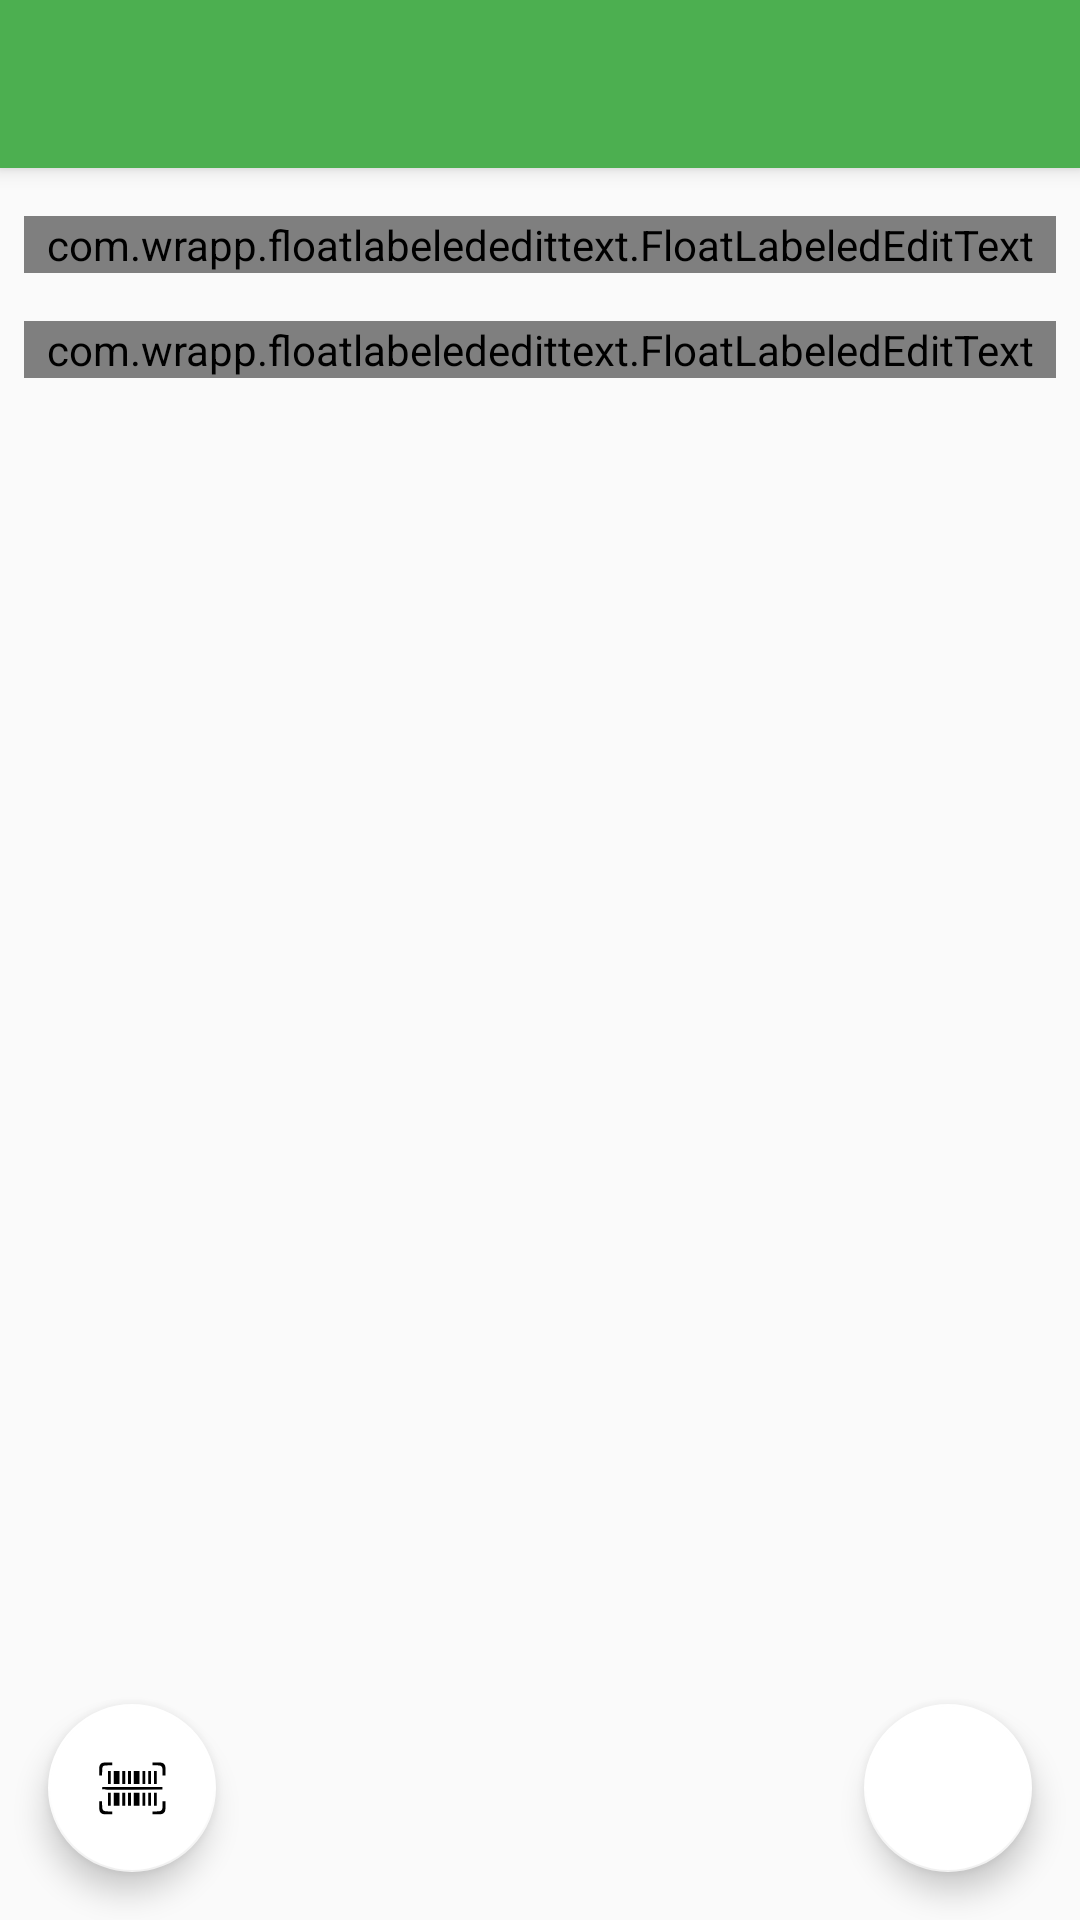

Screen size 1080px x 1920px. Icon name, then its center in pixels as [x,y]:
barcodescanner: [132,1788]
